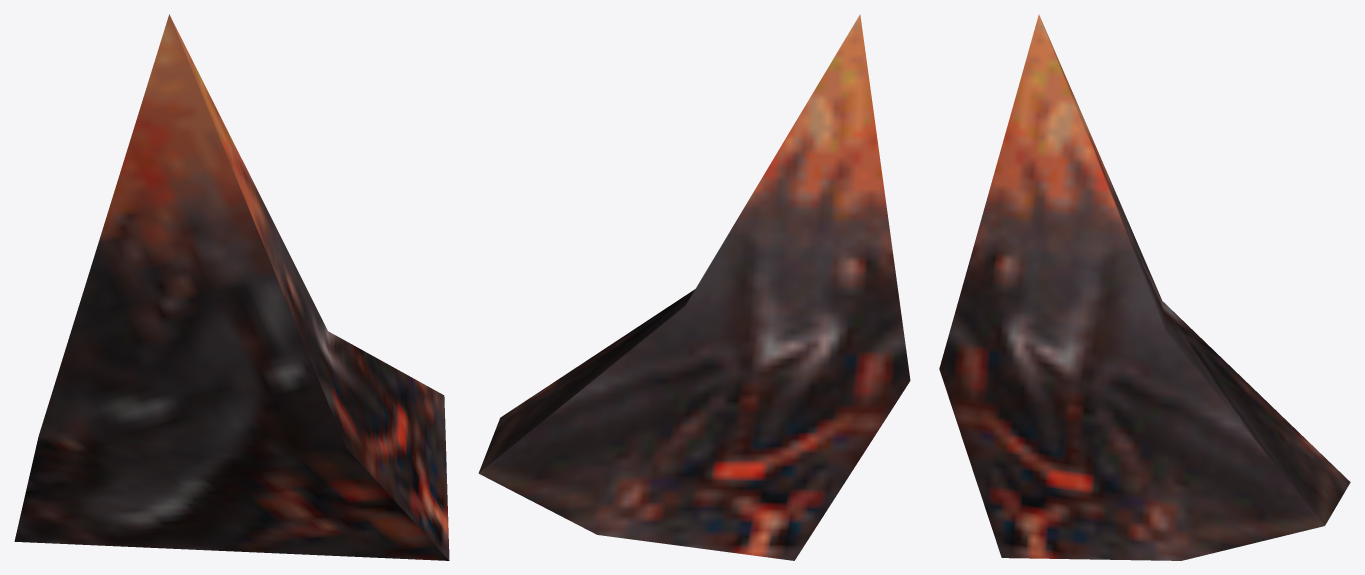
File: hs_jianci_2.FBX
3 views of the same model, side by side, from view 1: azimuth 30°, elevation 25°; view 2: azimuth 150°, elevation 25°; view 3: azimuth 270°, elevation 25° (orthographic). The views are drawn at different scales.
Visible parts, largest first — view 1: hs_jianci_2; view 2: hs_jianci_2; view 3: hs_jianci_2.
Boxes of the visible parts, bbox=[...] form: hs_jianci_2: bbox=[14, 14, 449, 560]; hs_jianci_2: bbox=[478, 14, 910, 560]; hs_jianci_2: bbox=[939, 14, 1350, 560].
Size of the model in its own units: 1.35 by 1.68 by 1.36.
